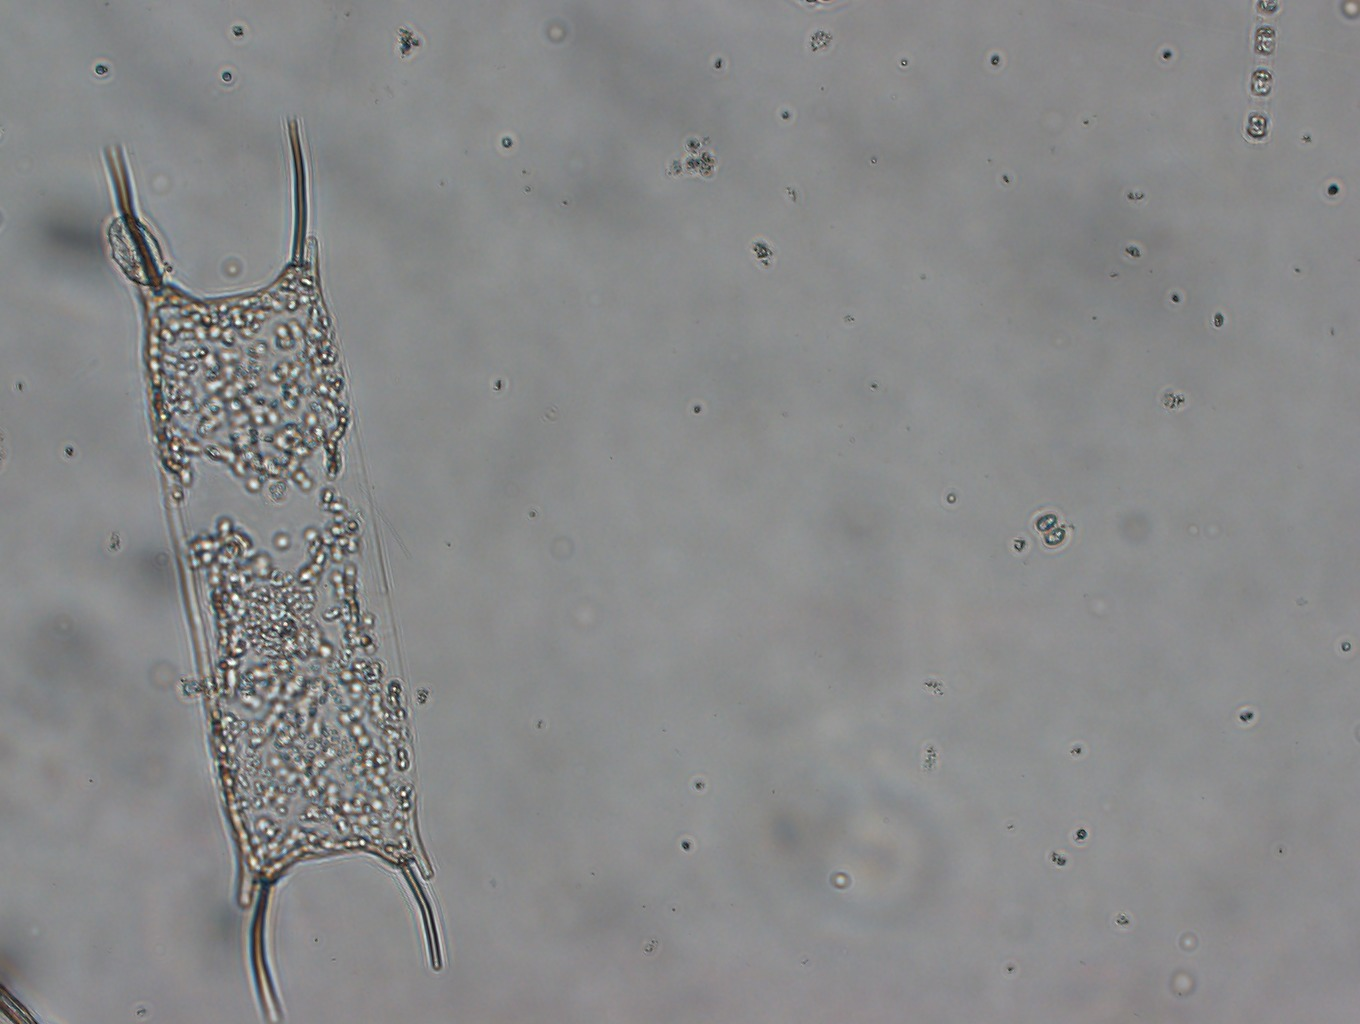biddulphia: (82, 116, 457, 1014)
